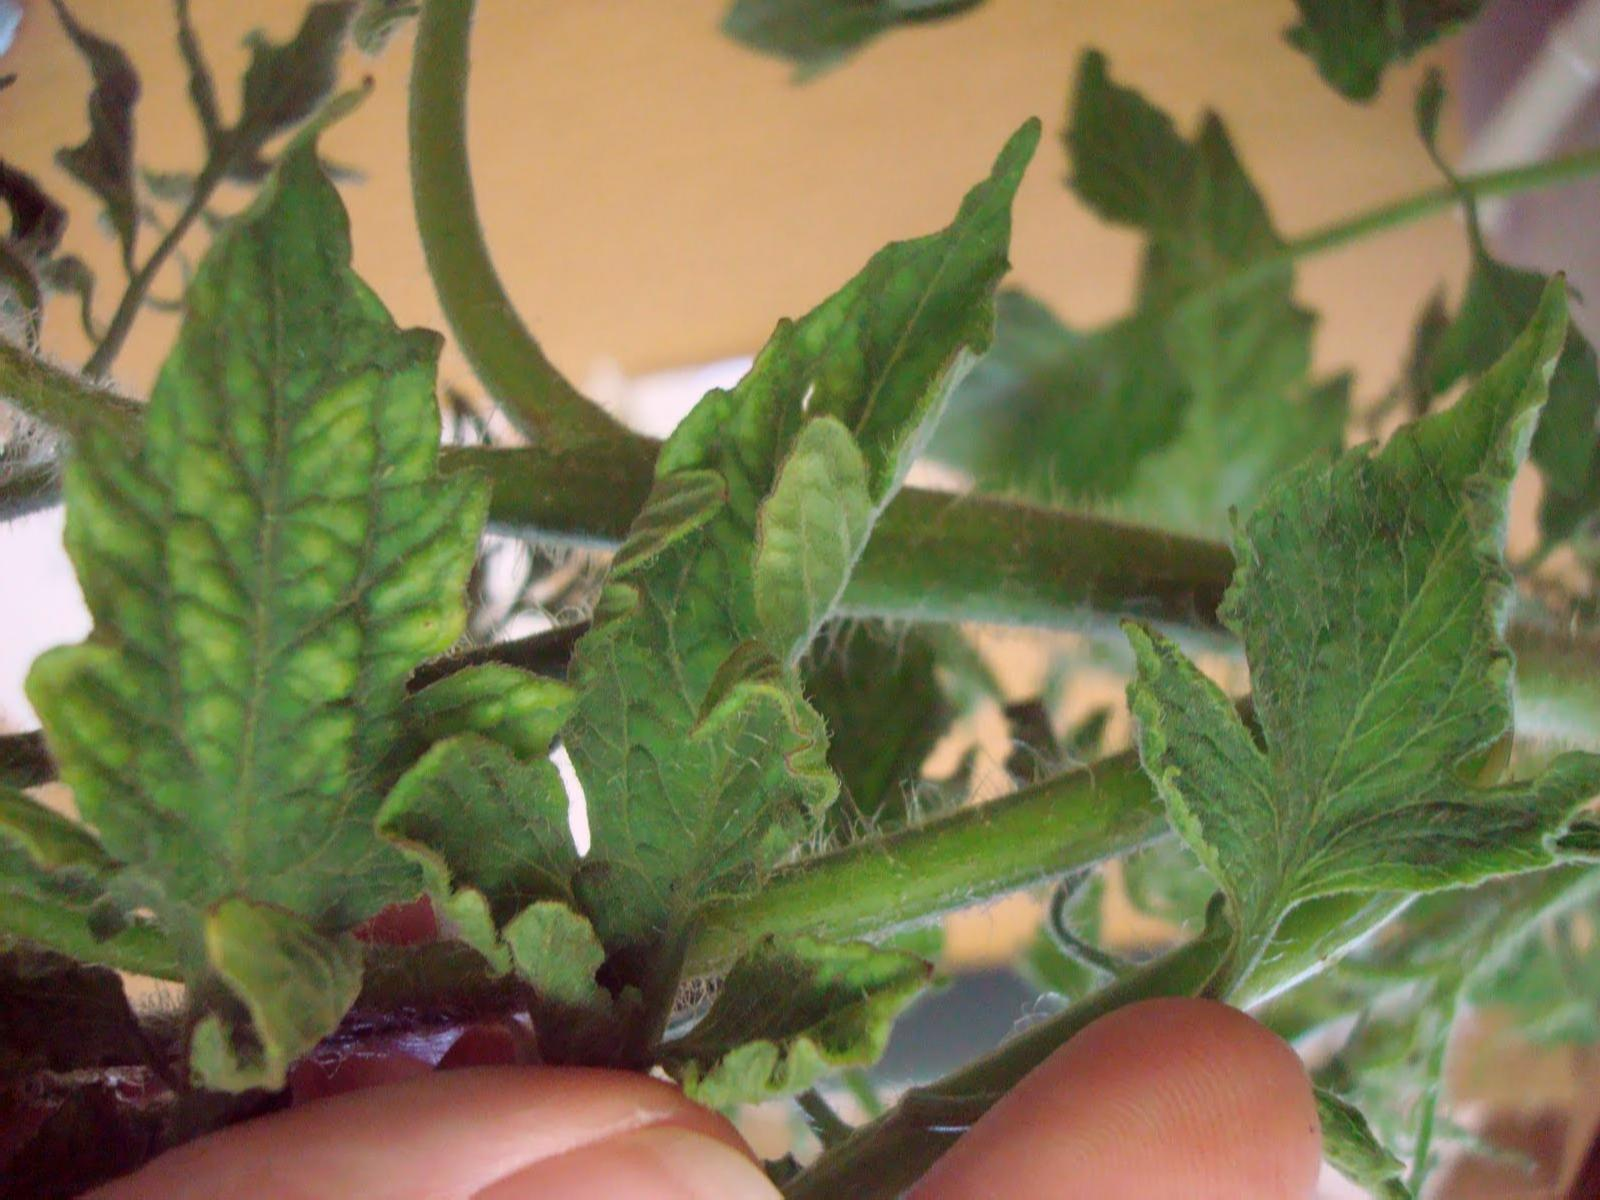Tomato leaf mosaic virus: (386, 118, 1045, 993), (15, 156, 542, 998), (1113, 287, 1564, 925)
